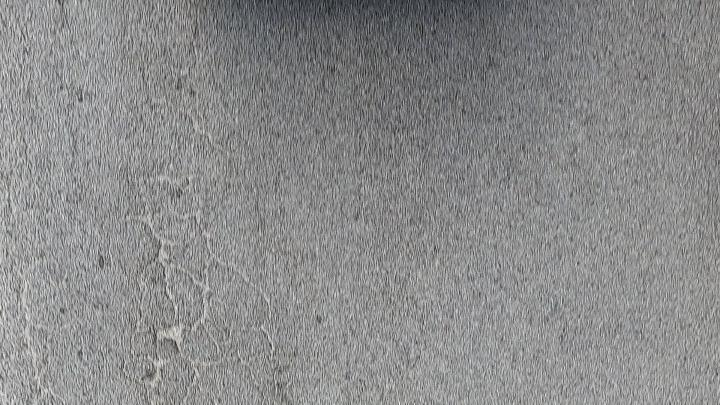Crack: (131, 172, 287, 390), (180, 207, 287, 369), (142, 279, 223, 387), (136, 205, 185, 316), (157, 175, 191, 199)
